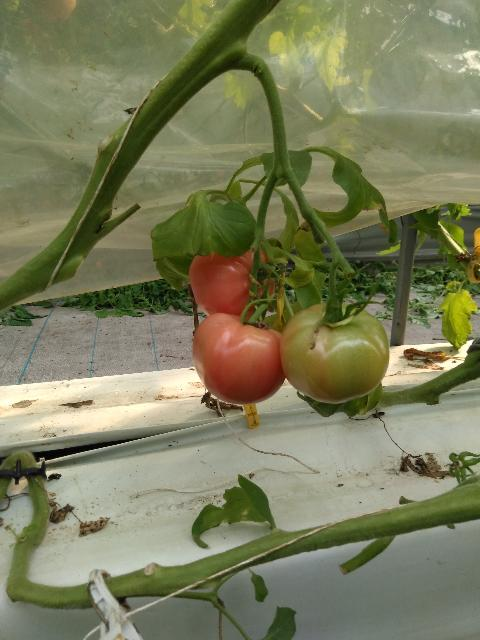b_fully_ripened: (192, 313, 286, 405), (189, 246, 275, 321)
b_half_ripened: (280, 302, 389, 404)
